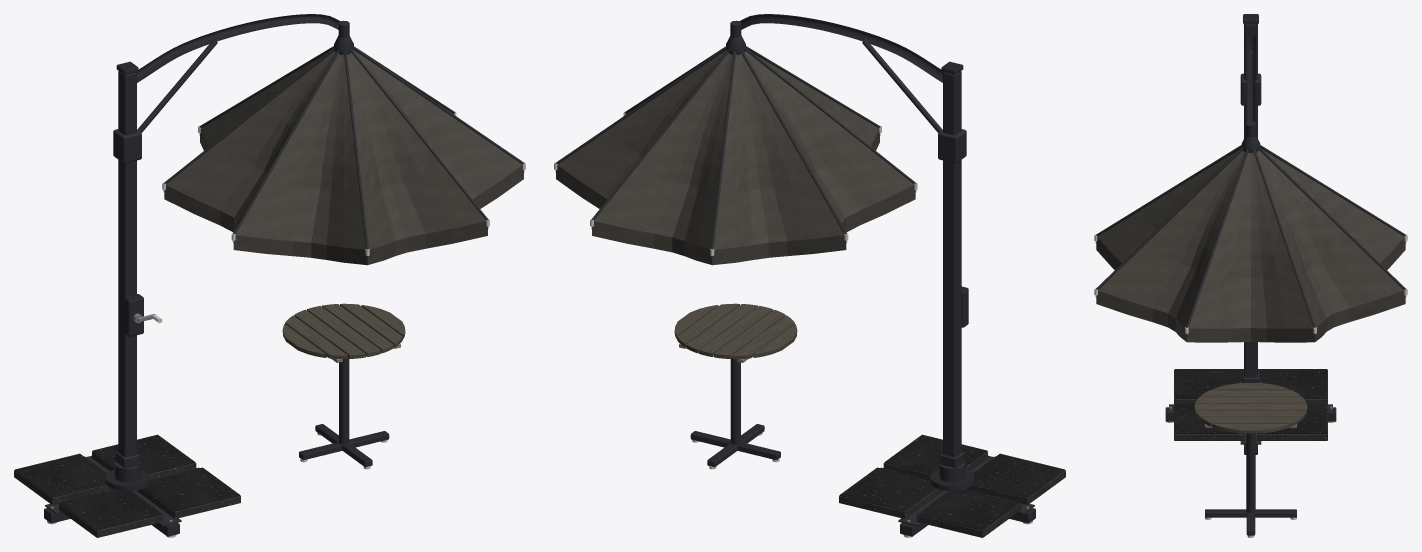
Rendered from parasol_table.glb.
3 views of the same model, side by side, from view 1: azimuth 30°, elevation 25°; view 2: azimuth 150°, elevation 25°; view 3: azimuth 270°, elevation 25° (orthographic). The views are drawn at different scales.
Visible parts, largest first — view 1: canopy_fabric_canopy_1, mast_powdercoat_graphite_0, canopy_fabric_canopy_2, ribs_powdercoat_graphite_0, arm_powdercoat_graphite_0, weights_stone_granite_wet_5, weights_stone_granite_wet_7, weights_stone_granite_wet_1, weights_stone_granite_wet_3, table_base_powdercoat_graphite_0, base_powdercoat_graphite_1, arm_powdercoat_graphite_wet_1 (+10 smaller); view 2: canopy_fabric_canopy_1, mast_powdercoat_graphite_0, canopy_fabric_canopy_2, ribs_powdercoat_graphite_0, arm_powdercoat_graphite_0, weights_stone_granite_wet_1, weights_stone_granite_wet_3, weights_stone_granite_wet_5, weights_stone_granite_wet_7, table_base_powdercoat_graphite_0, base_powdercoat_graphite_1, arm_powdercoat_graphite_wet_1 (+10 smaller); view 3: canopy_fabric_canopy_1, canopy_fabric_canopy_2, ribs_powdercoat_graphite_0, weights_stone_granite_wet_1, weights_stone_granite_wet_5, table_base_powdercoat_graphite_0, mast_powdercoat_graphite_0, weights_stone_granite_wet_3, weights_stone_granite_wet_7, table_top_wood_teak_wet_3, table_top_wood_teak_wet_2, arm_powdercoat_graphite_0 (+10 smaller).
Part boxes in pixels (x1,y1,x2,y2): canopy_fabric_canopy_1: (166,50,521,249); mast_powdercoat_graphite_0: (115,65,143,467); canopy_fabric_canopy_2: (164,129,523,265); ribs_powdercoat_graphite_0: (163,35,524,249); arm_powdercoat_graphite_0: (113,14,349,163); weights_stone_granite_wet_5: (59,489,162,530); weights_stone_granite_wet_7: (144,467,240,511); weights_stone_granite_wet_1: (15,453,106,497); weights_stone_granite_wet_3: (92,434,195,473); table_base_powdercoat_graphite_0: (299,358,389,467); base_powdercoat_graphite_1: (44,455,199,536); arm_powdercoat_graphite_wet_1: (137,19,338,82); canopy_fabric_canopy_1: (558,50,913,249); mast_powdercoat_graphite_0: (940,65,968,467); canopy_fabric_canopy_2: (556,129,915,265); ribs_powdercoat_graphite_0: (555,35,916,249); arm_powdercoat_graphite_0: (730,14,966,163); weights_stone_granite_wet_1: (917,489,1020,530); weights_stone_granite_wet_3: (839,467,935,511); weights_stone_granite_wet_5: (973,453,1064,497); weights_stone_granite_wet_7: (884,434,987,473); table_base_powdercoat_graphite_0: (690,358,780,467); base_powdercoat_graphite_1: (880,455,1035,536); arm_powdercoat_graphite_wet_1: (741,19,942,82); canopy_fabric_canopy_1: (1097,149,1404,328); canopy_fabric_canopy_2: (1096,237,1405,342); ribs_powdercoat_graphite_0: (1095,135,1406,327); weights_stone_granite_wet_1: (1258,369,1327,398); weights_stone_granite_wet_5: (1174,369,1243,398); table_base_powdercoat_graphite_0: (1205,433,1296,535); mast_powdercoat_graphite_0: (1242,15,1259,382); weights_stone_granite_wet_3: (1257,404,1327,433); weights_stone_granite_wet_7: (1174,404,1244,433); table_top_wood_teak_wet_3: (1194,403,1307,412); table_top_wood_teak_wet_2: (1195,396,1306,403); arm_powdercoat_graphite_0: (1240,34,1261,137).
Size of what is drawn, in the model's own units: 2.77 by 2.69 by 1.83.
Materials: 14 (13 with a texture image).
